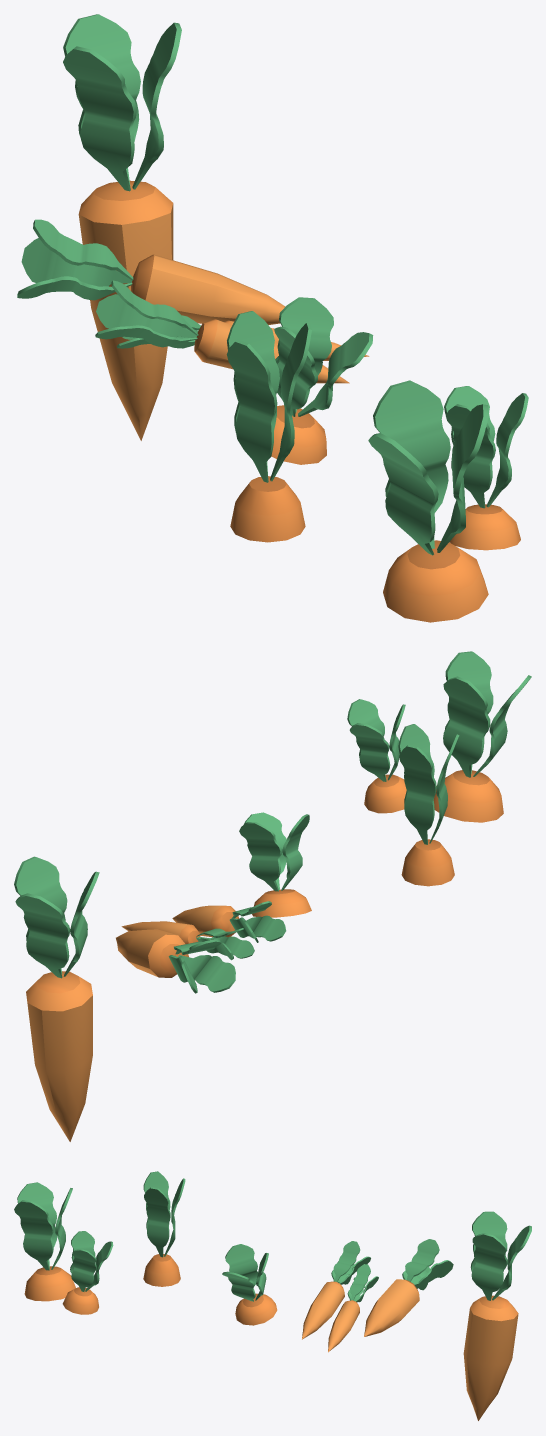
File: carrots.fbx
3 renders of one model, top to bottom at view 1: azimuth 30°, elevation 25°; view 2: azimuth 150°, elevation 25°; view 3: azimuth 270°, elevation 25°, orthographic. The views are drawn at different scales.
Visible parts, largest first — view 1: carrot; view 2: carrot; view 3: carrot.
Boxes of the visible parts, left/top/right/bottom form: carrot: left=17, top=14, right=528, bottom=622; carrot: left=14, top=651, right=531, bottom=1141; carrot: left=14, top=1171, right=531, bottom=1420.
Bounding box in the file's own units: 384 × 478 × 1129.
